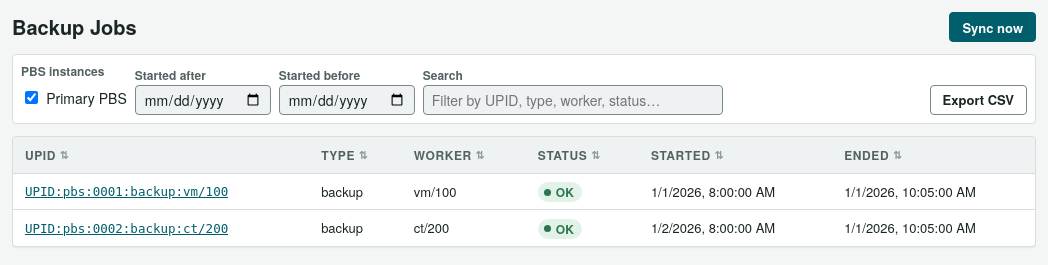
Test case: TasksPage › filters tasks by worker as you type
This screenshot has width=1048, height=265.
Check: the checkbox labelled "Primary PBS" is shown, box [25,91,38,104]
Type "ct/200" into the field labelled "Search" at [573, 100], box [423,85,723,115]
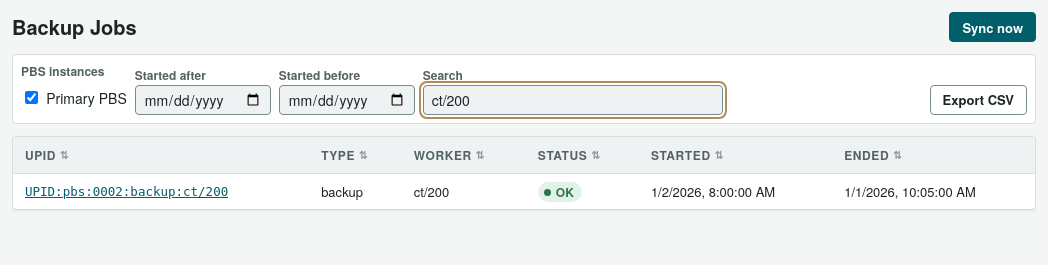
Check: the text "ct/200" is shown, box [402,173,526,209]
Check: the button "vm/100" is gone
